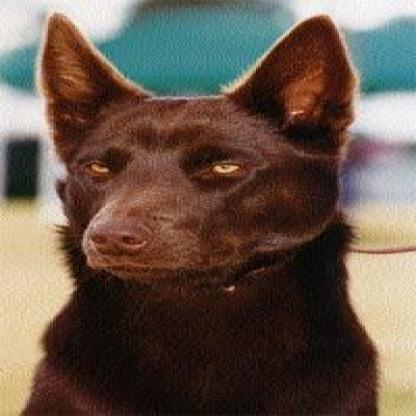kelpie: (17, 8, 387, 413)
